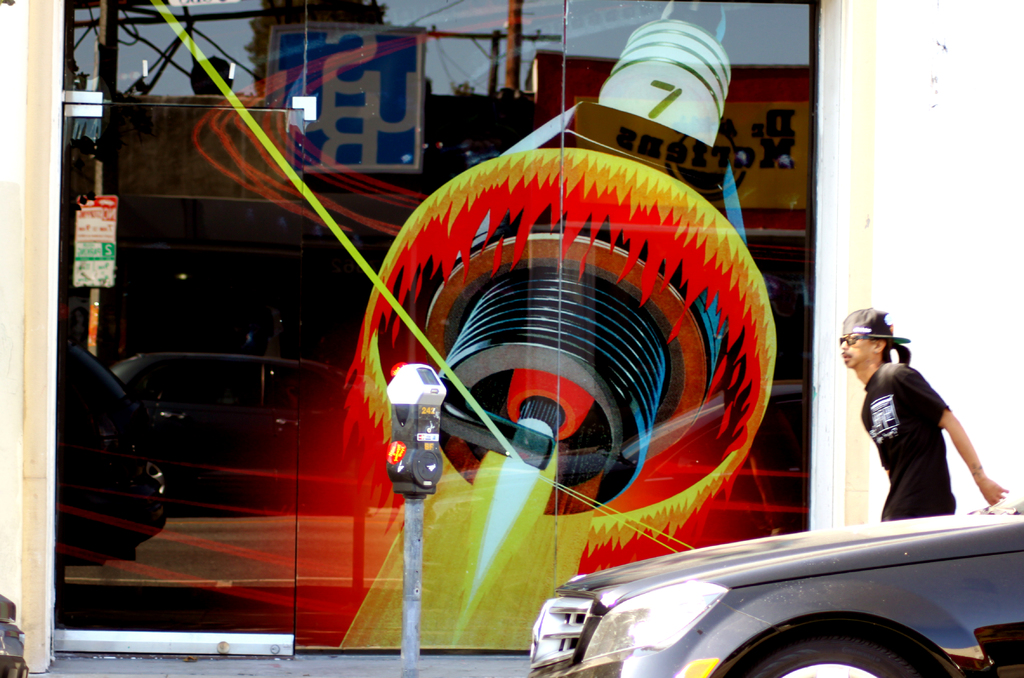Car: (515, 496, 1024, 675), (110, 344, 402, 510), (66, 338, 166, 572)
